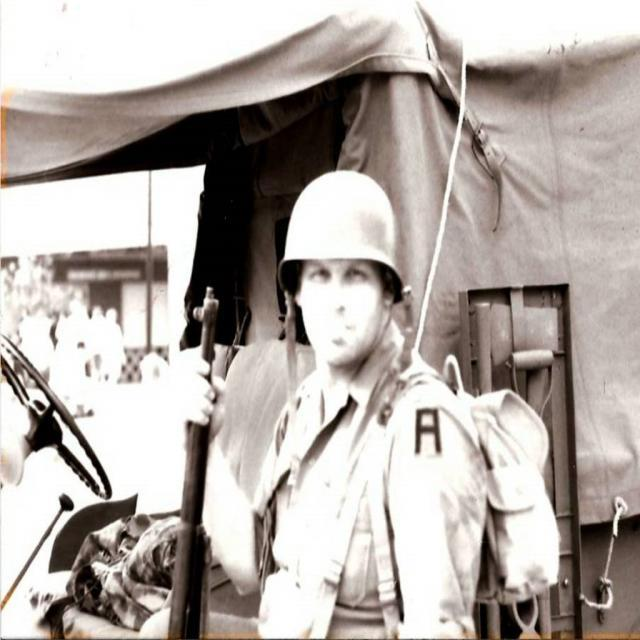weapon: (194, 284, 220, 639)
